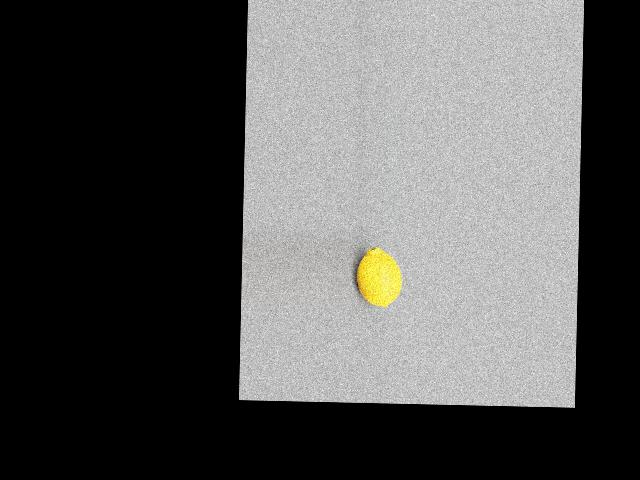lemon: (355, 232, 406, 313)
